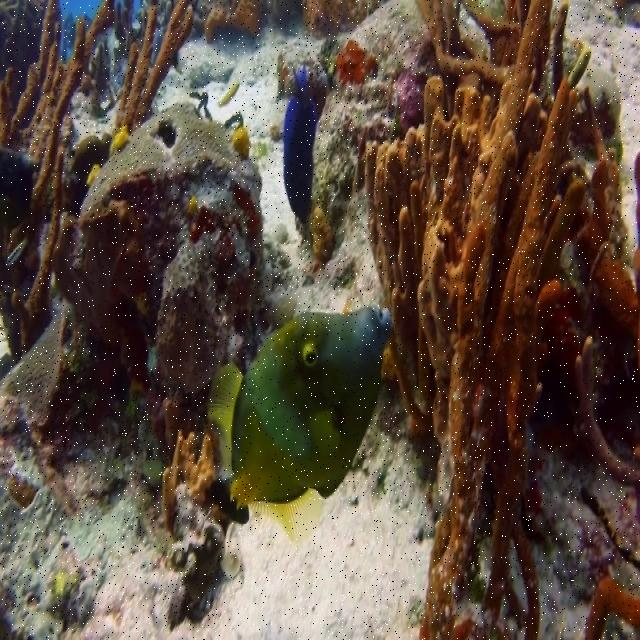fish: (209, 300, 391, 543), (280, 64, 319, 223)
reefs: (363, 1, 639, 639), (0, 0, 118, 359), (111, 1, 193, 148)
sea-floor: (52, 98, 266, 464)
